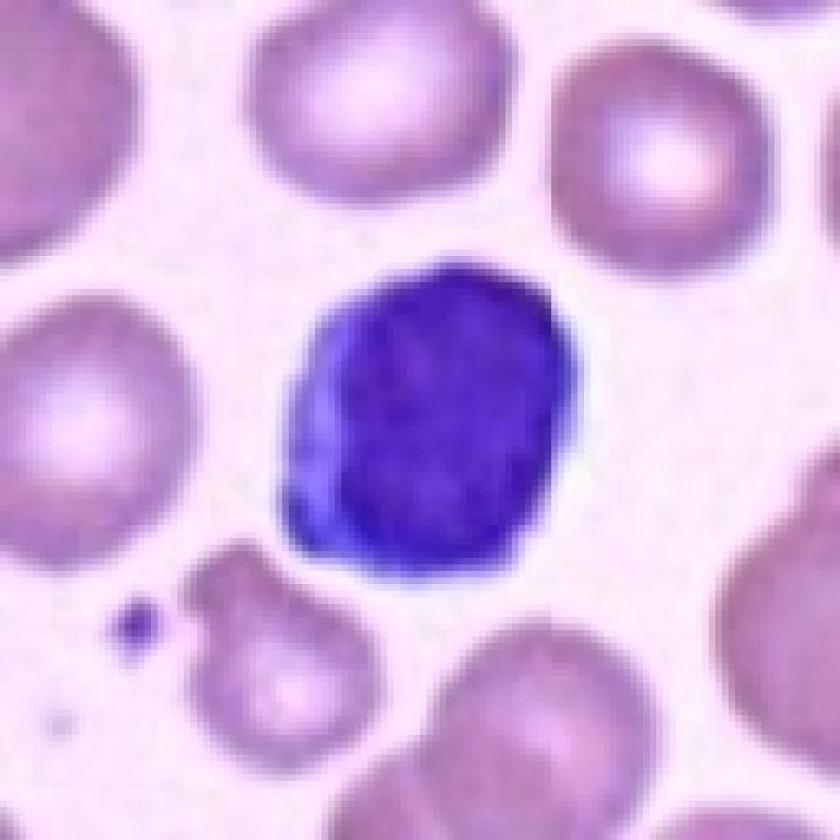lymphocyte: (271, 256, 589, 589)
